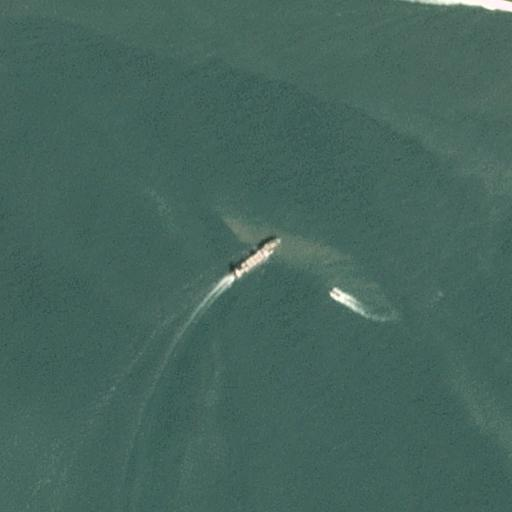ship: (0, 271, 132, 508), (338, 287, 397, 326), (230, 234, 282, 278), (329, 288, 341, 297)
